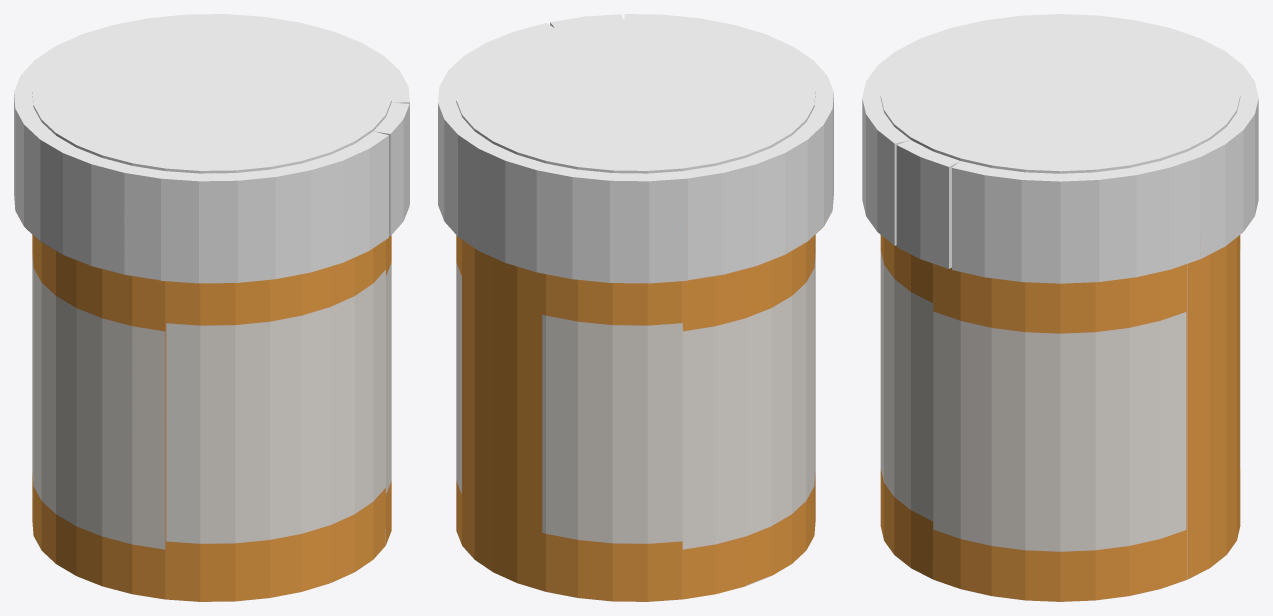
Rendered from pillBottle.fbx.
3 views of the same model, side by side, from view 1: azimuth 30°, elevation 25°; view 2: azimuth 150°, elevation 25°; view 3: azimuth 270°, elevation 25° (orthographic).
Parts seen in each view (by area): view 1: Cylinder; view 2: Cylinder; view 3: Cylinder.
Boxes of the visible parts, x1,y1,x2,y2 form: Cylinder: (14, 14, 409, 601); Cylinder: (438, 14, 833, 601); Cylinder: (862, 14, 1258, 601).
Size of the model in its own units: 220 by 264 by 220.
